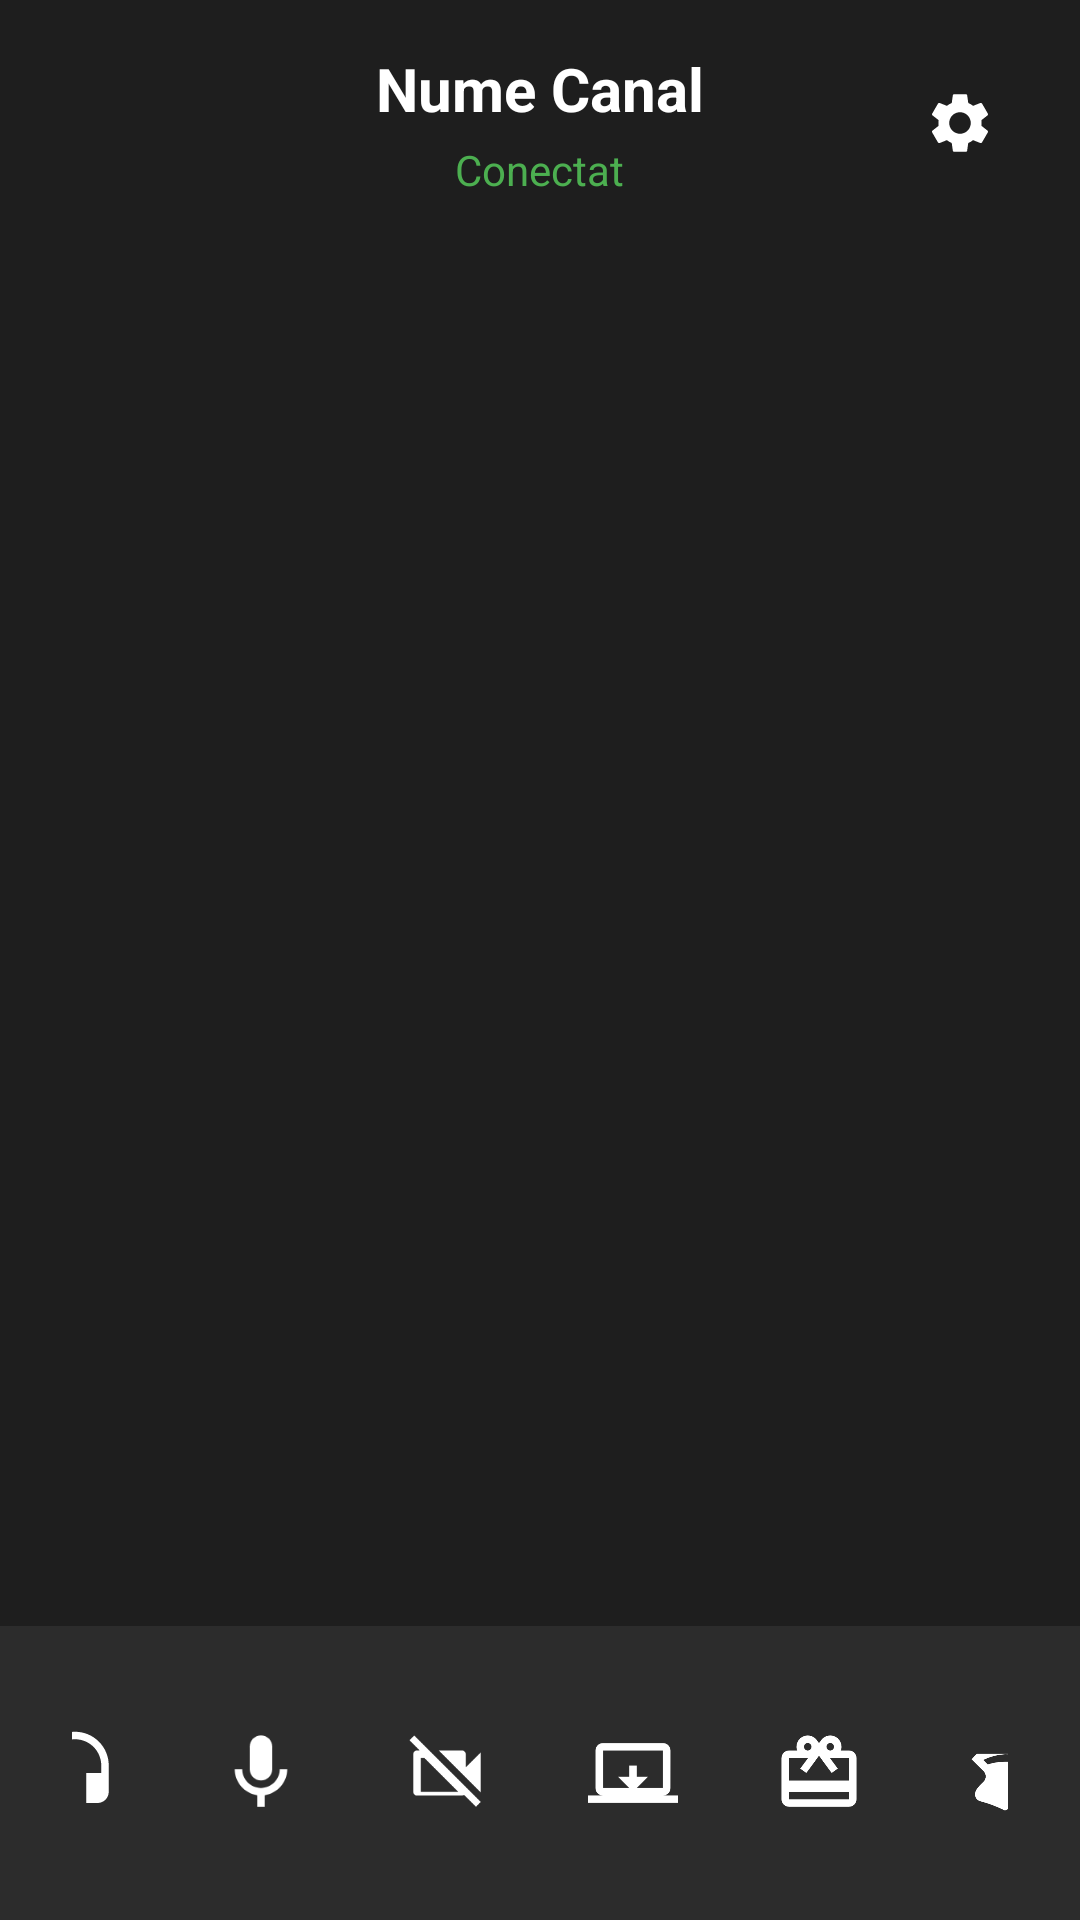

Icon click points for this 1080 x 1920 phone screenshot, format (x,y):
gift card: (819,1771)
mic: (261,1771)
screen share: (633,1773)
settings: (960,123)
videocam off: (445,1771)
